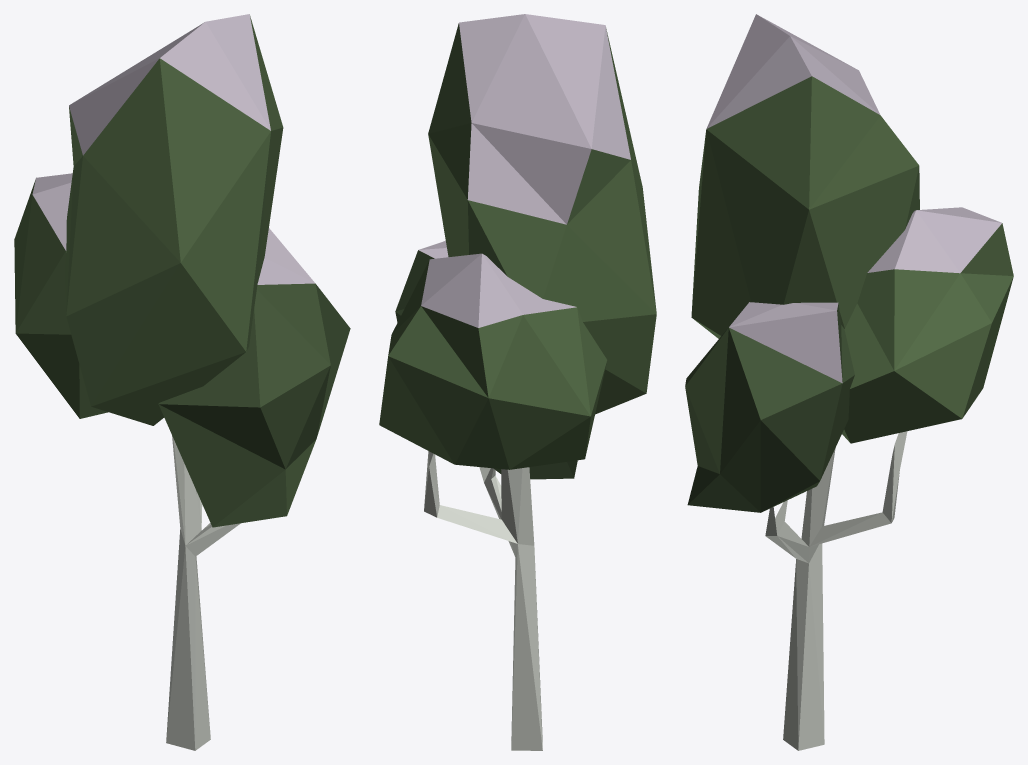
The model's file is BirchTree_Snow_3.lod3.glb.
3 views of the same model, side by side, from view 1: azimuth 30°, elevation 25°; view 2: azimuth 150°, elevation 25°; view 3: azimuth 270°, elevation 25° (orthographic).
Parts seen in each view (by area): view 1: BirchTree_Snow_3; view 2: BirchTree_Snow_3; view 3: BirchTree_Snow_3.
Part boxes in pixels (x1,y1,x2,y2): BirchTree_Snow_3: (14,14,350,750); BirchTree_Snow_3: (379,14,656,750); BirchTree_Snow_3: (685,14,1013,750).
Size of the model in its own units: 1.6 by 4.17 by 1.75.
